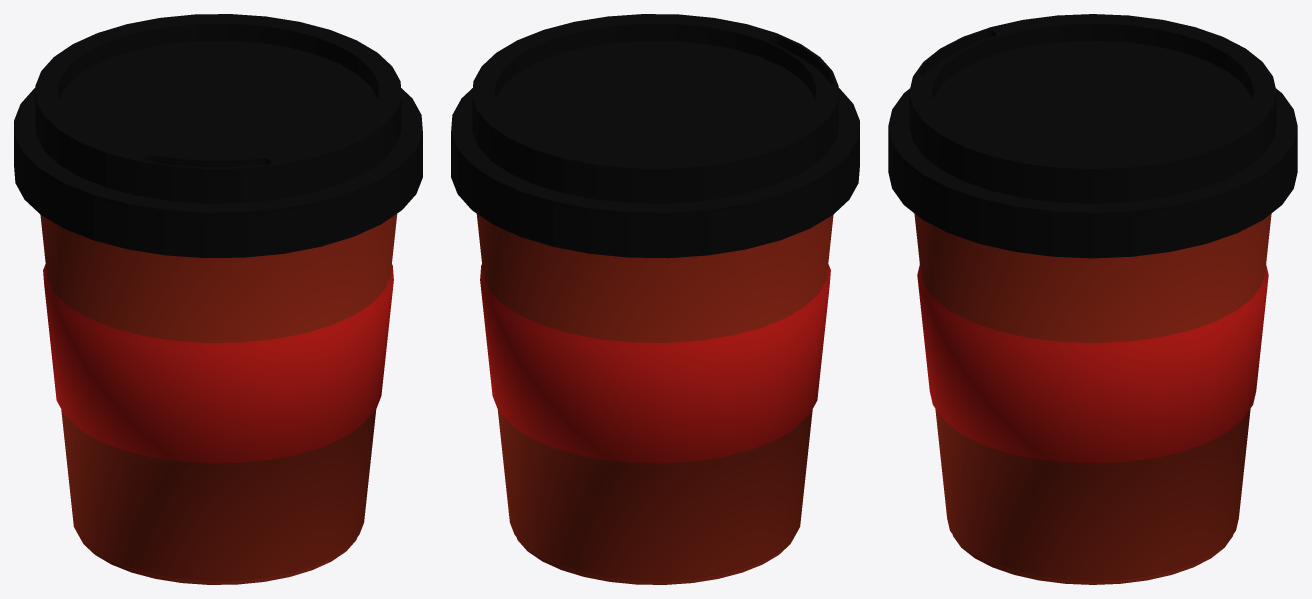
The model's file is Copo3.fbx.
The picture shows the model from 3 angles, left to right: view 1: azimuth 30°, elevation 25°; view 2: azimuth 150°, elevation 25°; view 3: azimuth 270°, elevation 25°; orthographic projection.
Parts seen in each view (by area): view 1: Copo3; view 2: Copo3; view 3: Copo3.
Part boxes in pixels (x1,y1,x2,y2): Copo3: (14, 14, 422, 584); Copo3: (451, 14, 859, 584); Copo3: (888, 14, 1297, 584).
Size of the model in its own units: 281 by 328 by 281.
Materials: 1 (1 with a texture image).
